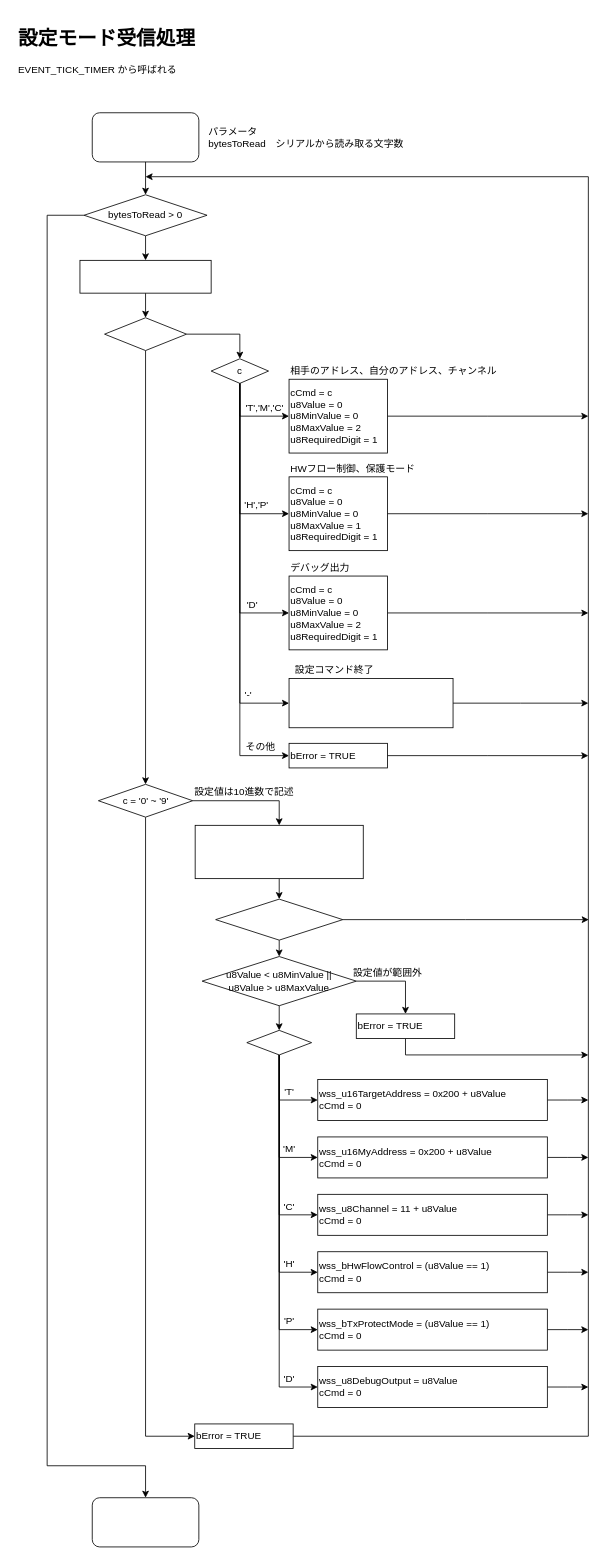
The diagram is 609 pixels wide and 1561 high, and some of its shapes have lost their labels. Here are the shapes that lost their labels. From the top down, the centre of each, then its label:
At pixel 145 137: "設定モード受信処理".
At pixel 145 276: "c = serial_read() bytesToRead デクリメント".
At pixel 145 334: "cCmd == 0".
At pixel 370 703: "wss_bSoftwareSetting = ! bError bSettingMode = FALSE bytesToRead = 0".
At pixel 278 852: "u8Value = u8Value * 10 + (c - '0') u8RequiredDigit デクリメント".
At pixel 279 919: "u8RequiredDigit > 0".
At pixel 279 1042: "cCmd".
At pixel 145 1522: "設定モード受信処理 おわり".
